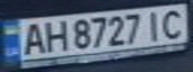2: (106, 12, 130, 47)
7: (121, 10, 148, 44), (87, 15, 109, 48)
8: (69, 16, 93, 51)
A: (15, 20, 48, 56)
C: (157, 6, 190, 39)
H: (39, 18, 69, 53)
I: (142, 7, 169, 40)
